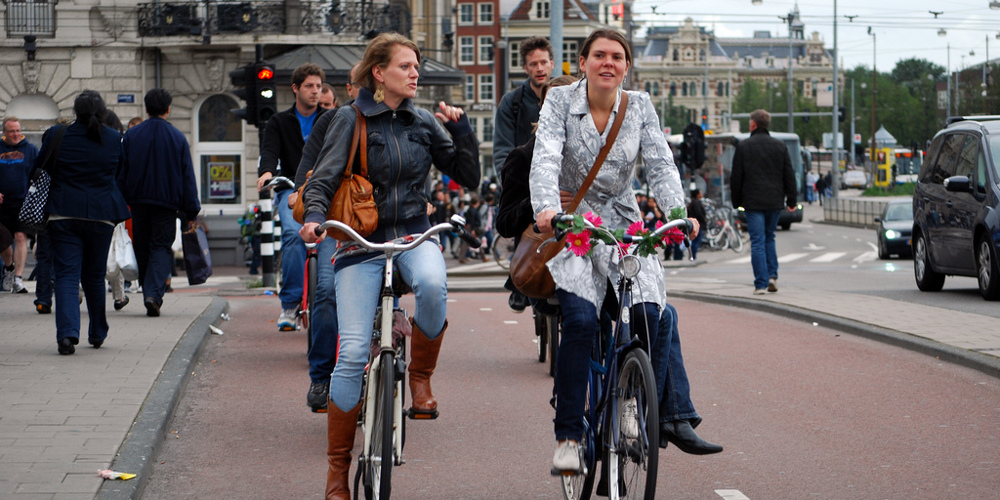commuter: (523, 30, 702, 500), (299, 33, 471, 500)
